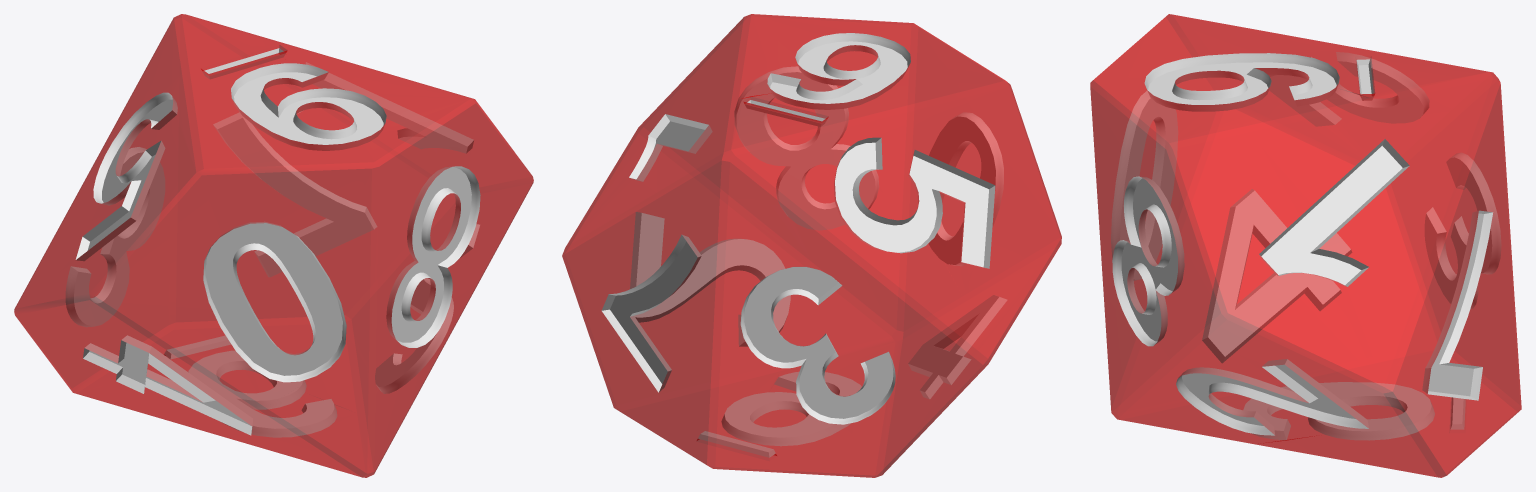
3 views of the same model, side by side, from view 1: azimuth 30°, elevation 25°; view 2: azimuth 150°, elevation 25°; view 3: azimuth 270°, elevation 25° (orthographic). The views are drawn at different scales.
Parts seen in each view (by area): view 1: export.004; view 2: export.004; view 3: export.004.
Part boxes in pixels (<box>): export.004: <box>14,14,533,477</box>; export.004: <box>562,14,1061,477</box>; export.004: <box>1090,14,1521,477</box>.
Bounding box in the file's own units: 0.0593 × 0.0426 × 0.0483.
